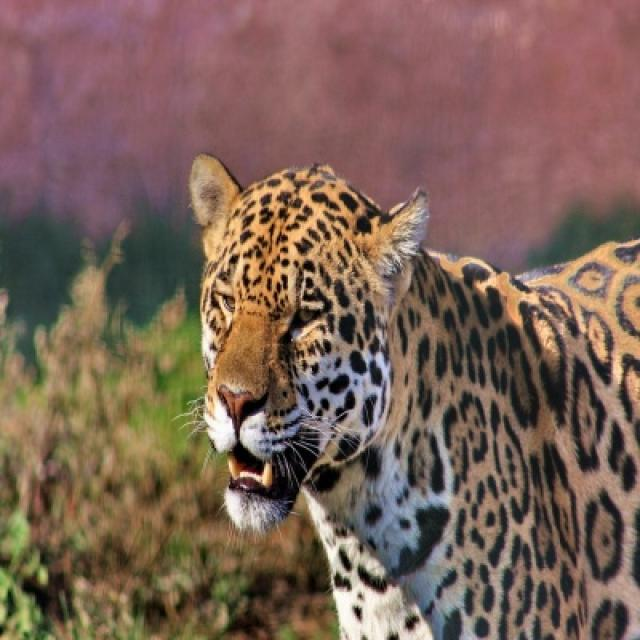Jaguar: (187, 155, 638, 638)
